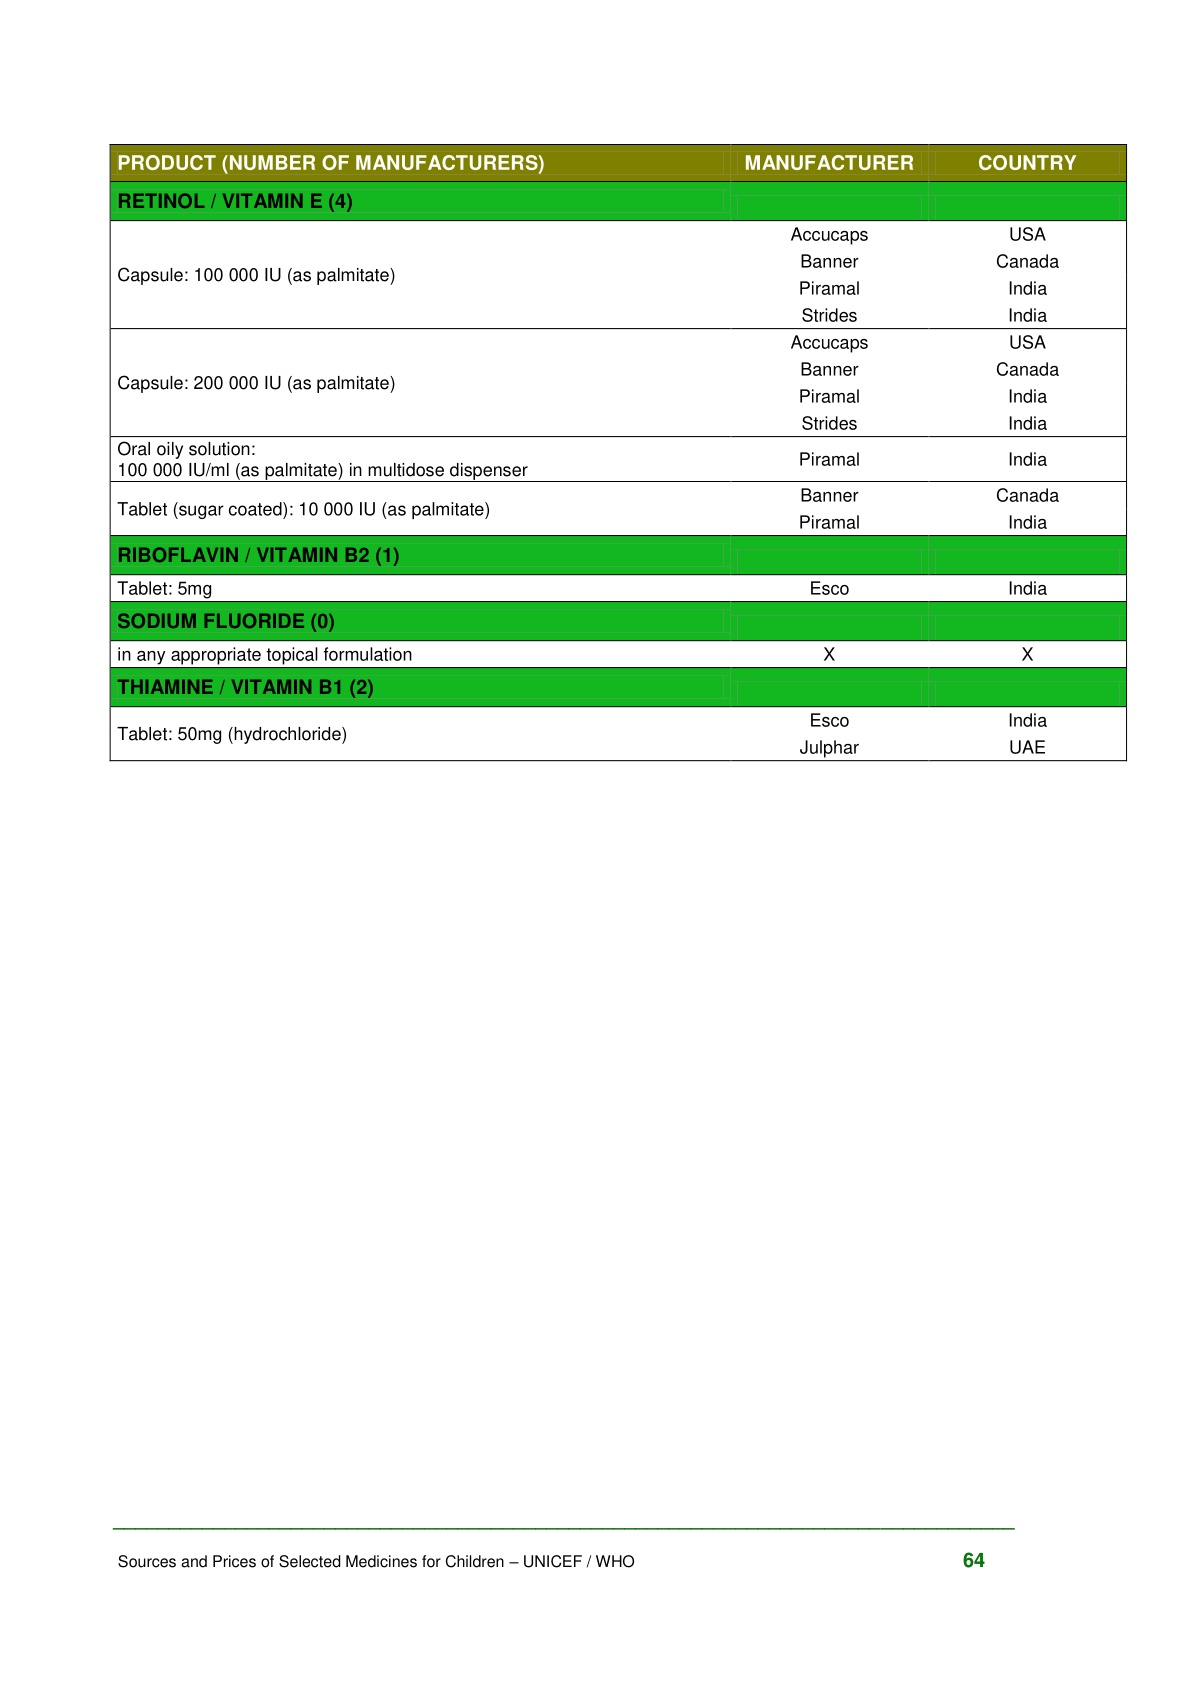partial_lined_merged_cells: (110, 143, 1128, 761)
